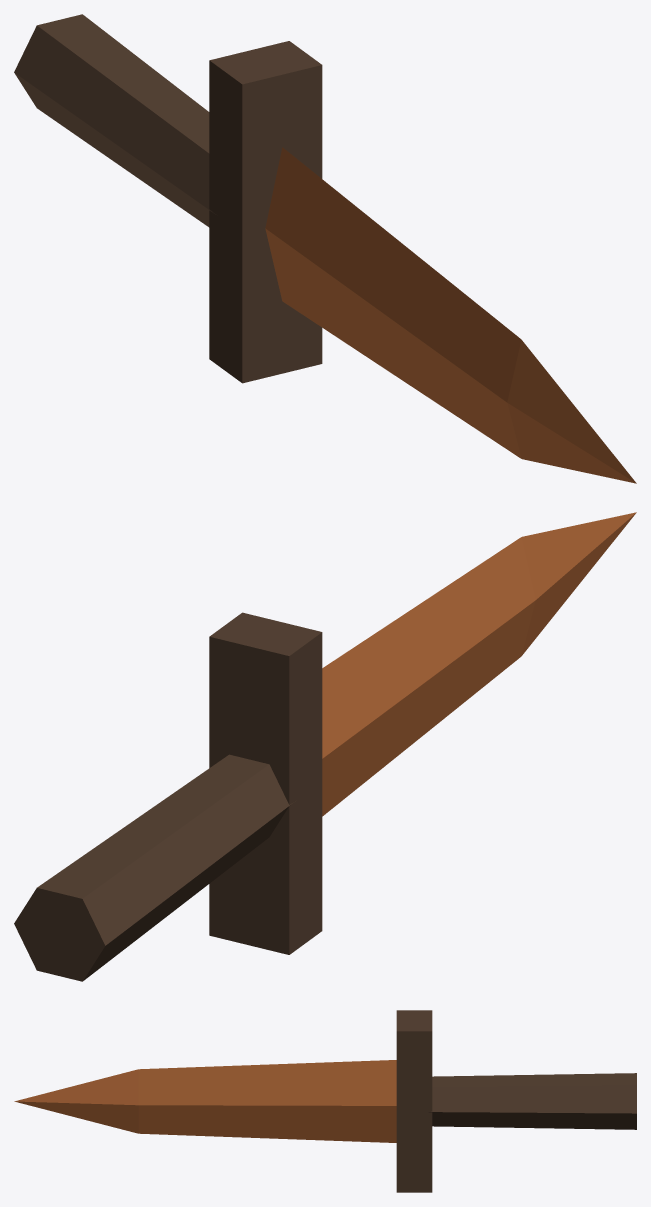
File: Knife.fbx
3 views of the same model, one above another, from view 1: azimuth 30°, elevation 25°; view 2: azimuth 150°, elevation 25°; view 3: azimuth 270°, elevation 25° (orthographic). The views are drawn at different scales.
Parts seen in each view (by area): view 1: Knife; view 2: Knife; view 3: Knife.
Part boxes in pixels (<box>): Knife: <box>14,14,636,483</box>; Knife: <box>14,512,636,981</box>; Knife: <box>14,1010,636,1192</box>.
Bounding box in the file's own units: 0.032 × 0.1 × 0.35.
